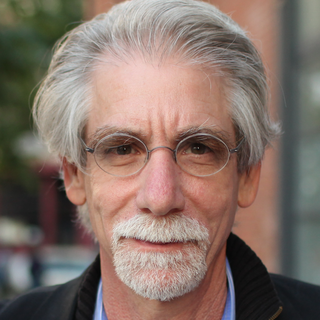eye: (174, 135, 222, 161), (99, 138, 147, 163)
